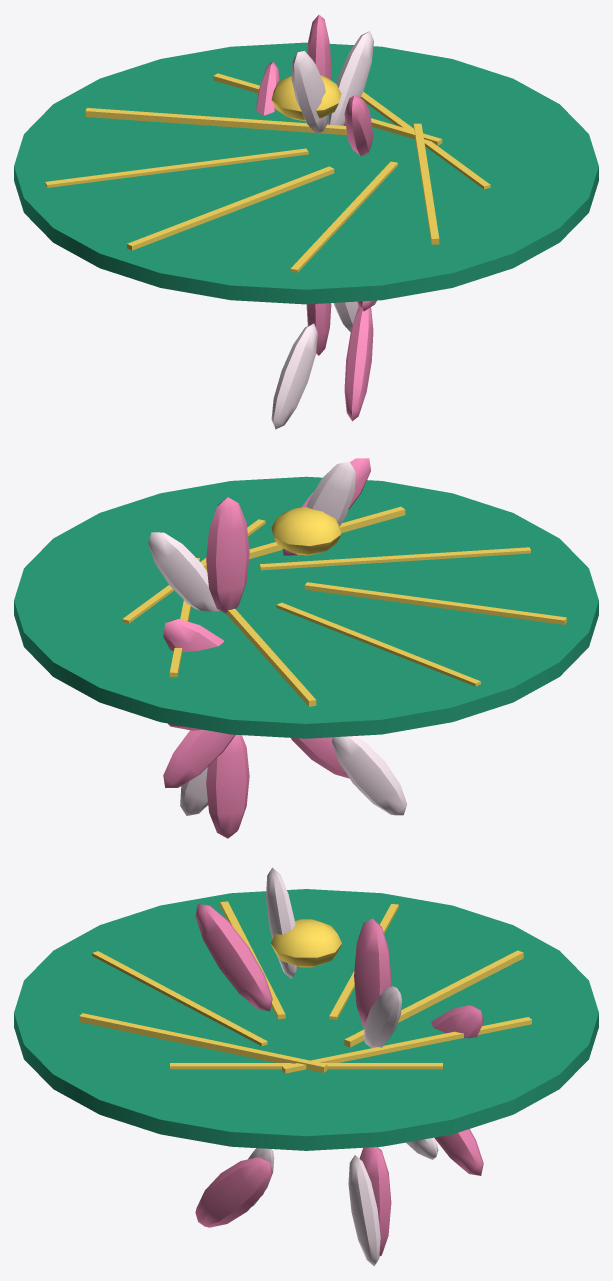
Rendered from LandLotus.fbx.
The picture shows the model from 3 angles, top to bottom: view 1: azimuth 30°, elevation 25°; view 2: azimuth 150°, elevation 25°; view 3: azimuth 270°, elevation 25°; orthographic projection.
Parts seen in each view (by area): view 1: LandLotus; view 2: LandLotus; view 3: LandLotus.
Part boxes in pixels (x1,y1,x2,y2): LandLotus: [14, 15, 598, 429]; LandLotus: [14, 458, 598, 838]; LandLotus: [14, 867, 598, 1266].
Size of the model in its own units: 900 by 608 by 900.
